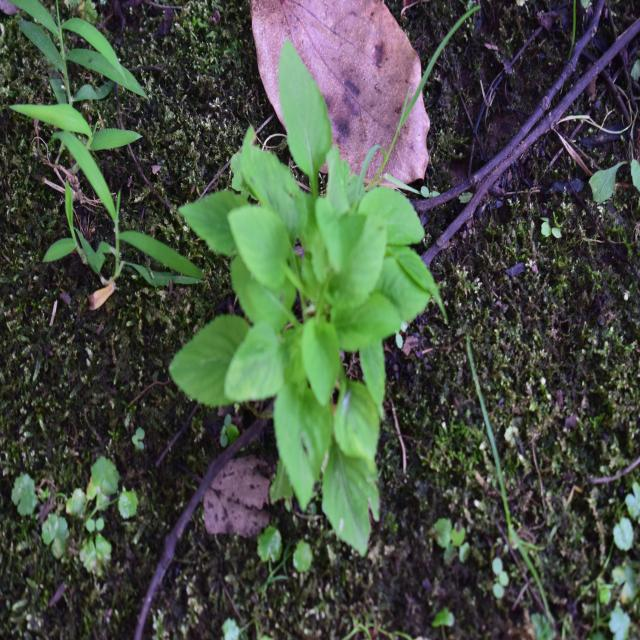Viola: (202, 84, 419, 531)
